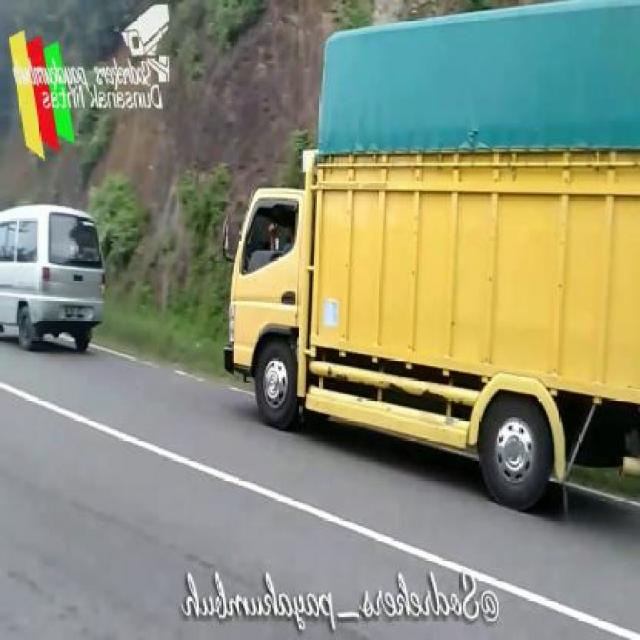truck: (226, 1, 640, 505)
